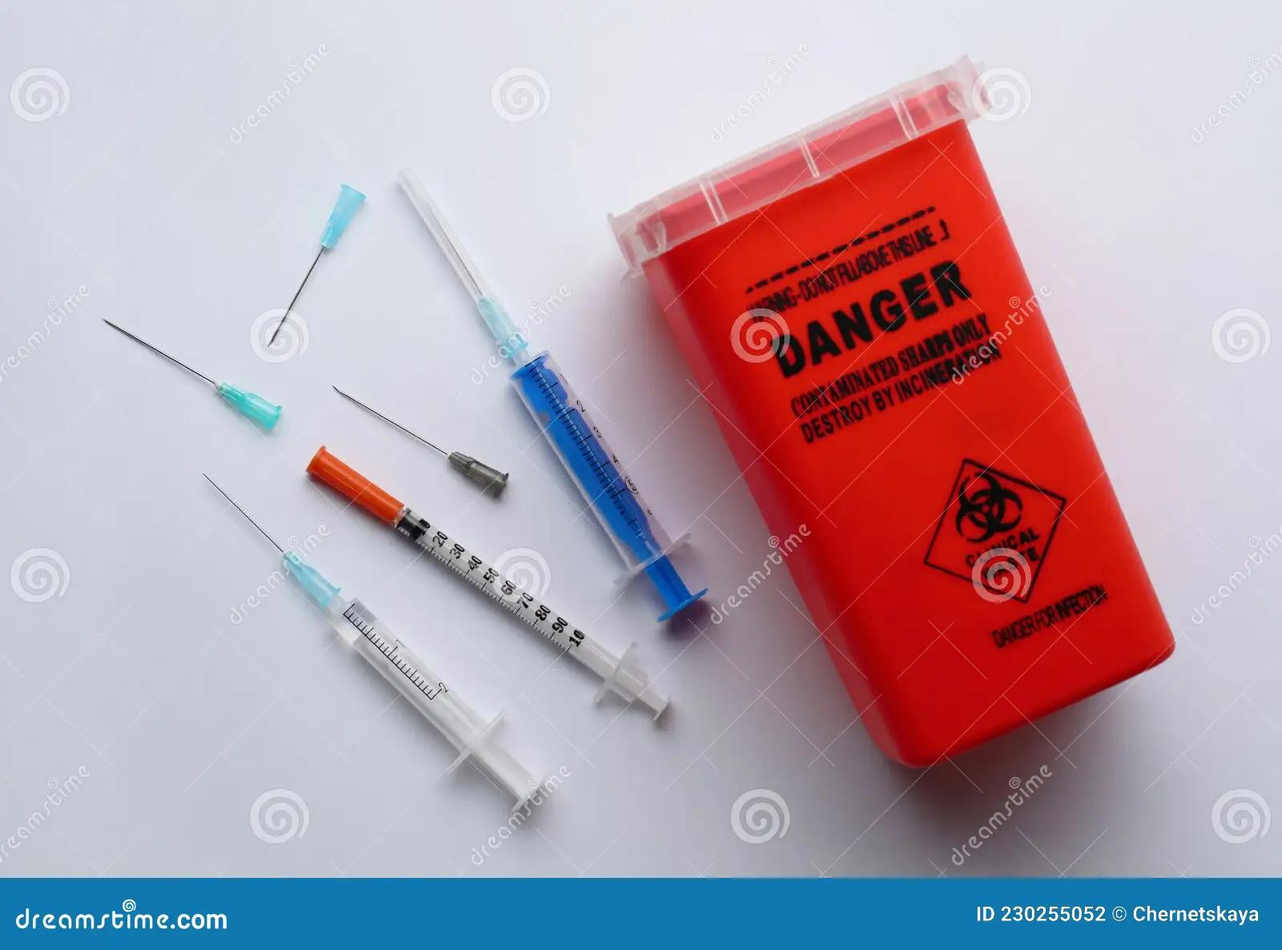Syringe: (399, 169, 706, 620), (205, 475, 540, 810), (308, 446, 668, 719)
